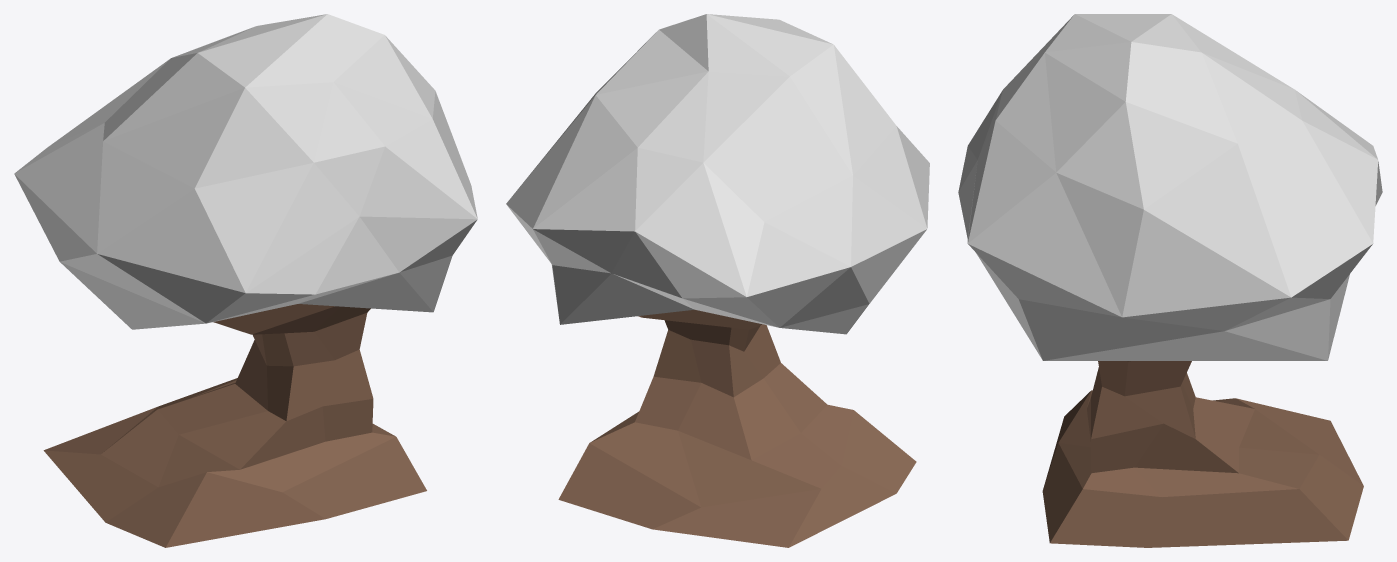
The model's file is Tree_25_White.fbx.
The picture shows the model from 3 angles, left to right: view 1: azimuth 30°, elevation 25°; view 2: azimuth 150°, elevation 25°; view 3: azimuth 270°, elevation 25°; orthographic projection. The views are drawn at different scales.
Parts seen in each view (by area): view 1: Tree_25_White_Part_1, Tree_25_White_Part_3, Tree_25_White_Part_2; view 2: Tree_25_White_Part_1, Tree_25_White_Part_3, Tree_25_White_Part_2; view 3: Tree_25_White_Part_1, Tree_25_White_Part_3, Tree_25_White_Part_2.
Part boxes in pixels (x1=…): Tree_25_White_Part_1: x1=14, y1=14, x2=477, y2=329; Tree_25_White_Part_3: x1=43, y1=378, x2=426, y2=547; Tree_25_White_Part_2: x1=158, y1=304, x2=373, y2=469; Tree_25_White_Part_1: x1=506, y1=14, x2=929, y2=334; Tree_25_White_Part_3: x1=558, y1=405, x2=916, y2=547; Tree_25_White_Part_2: x1=635, y1=309, x2=827, y2=460; Tree_25_White_Part_1: x1=958, y1=14, x2=1382, y2=360; Tree_25_White_Part_3: x1=1042, y1=390, x2=1363, y2=547; Tree_25_White_Part_2: x1=1087, y1=361, x2=1254, y2=473.
Size of the model in its own units: 666 by 786 by 641.
